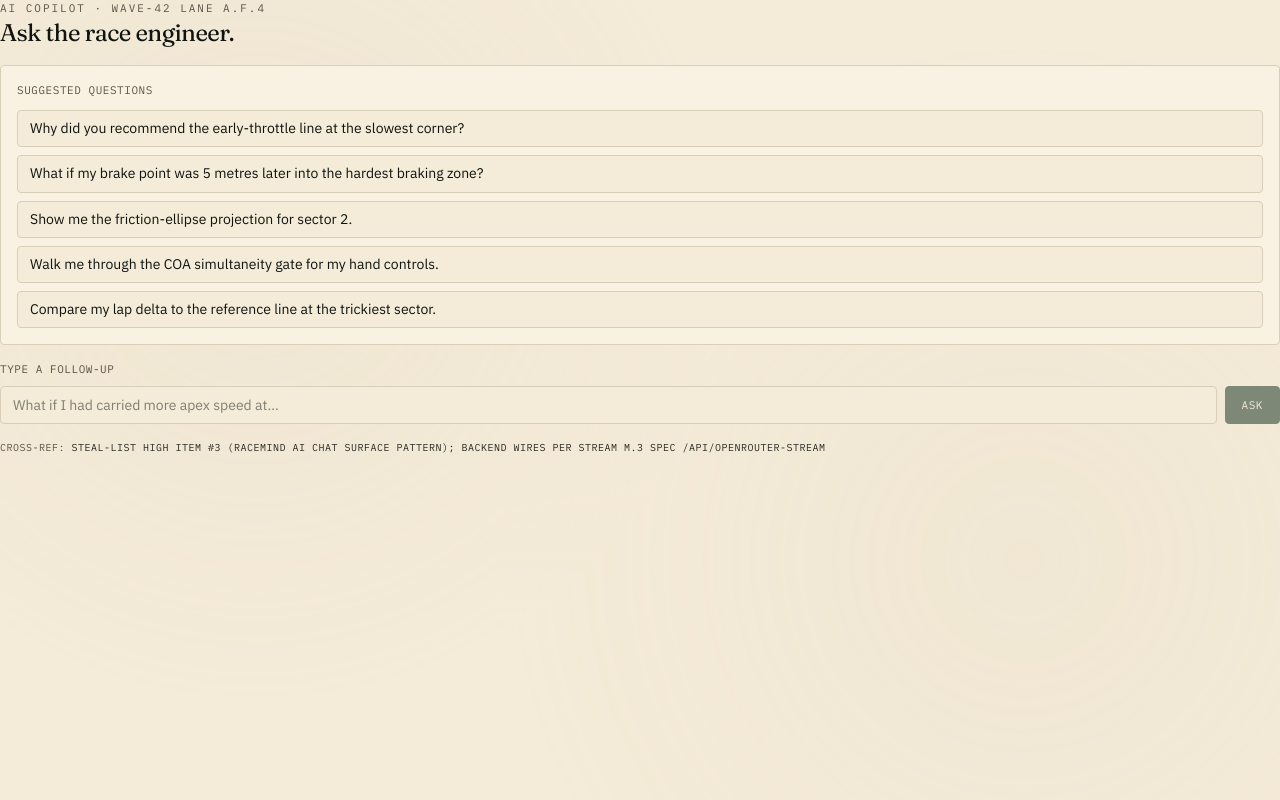
Test case: AICopilotChat › renders the ready-branch full response when streamState=ready
In the field: (608, 405) [0,386,1216,424], type "Walk me through the COA gate."
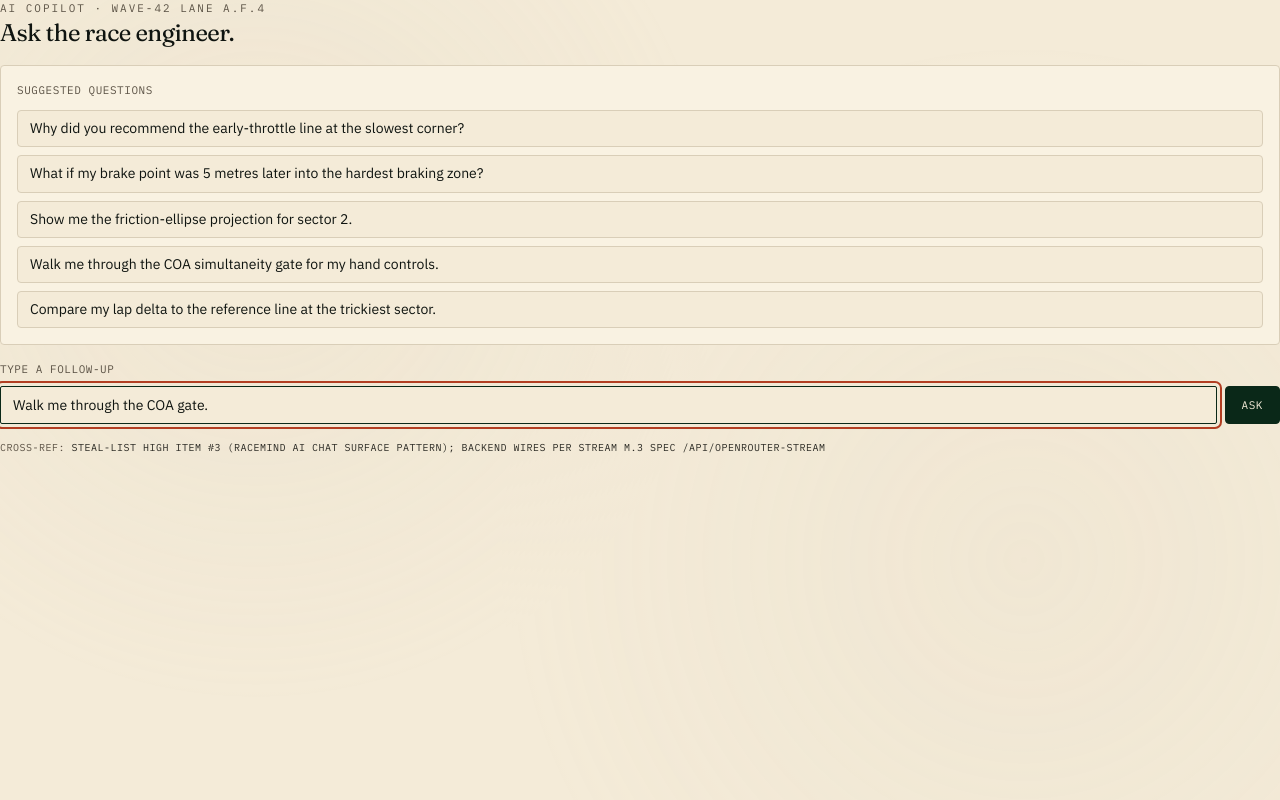
Click the button "Ask": (1252, 405) [1224,386,1279,424]
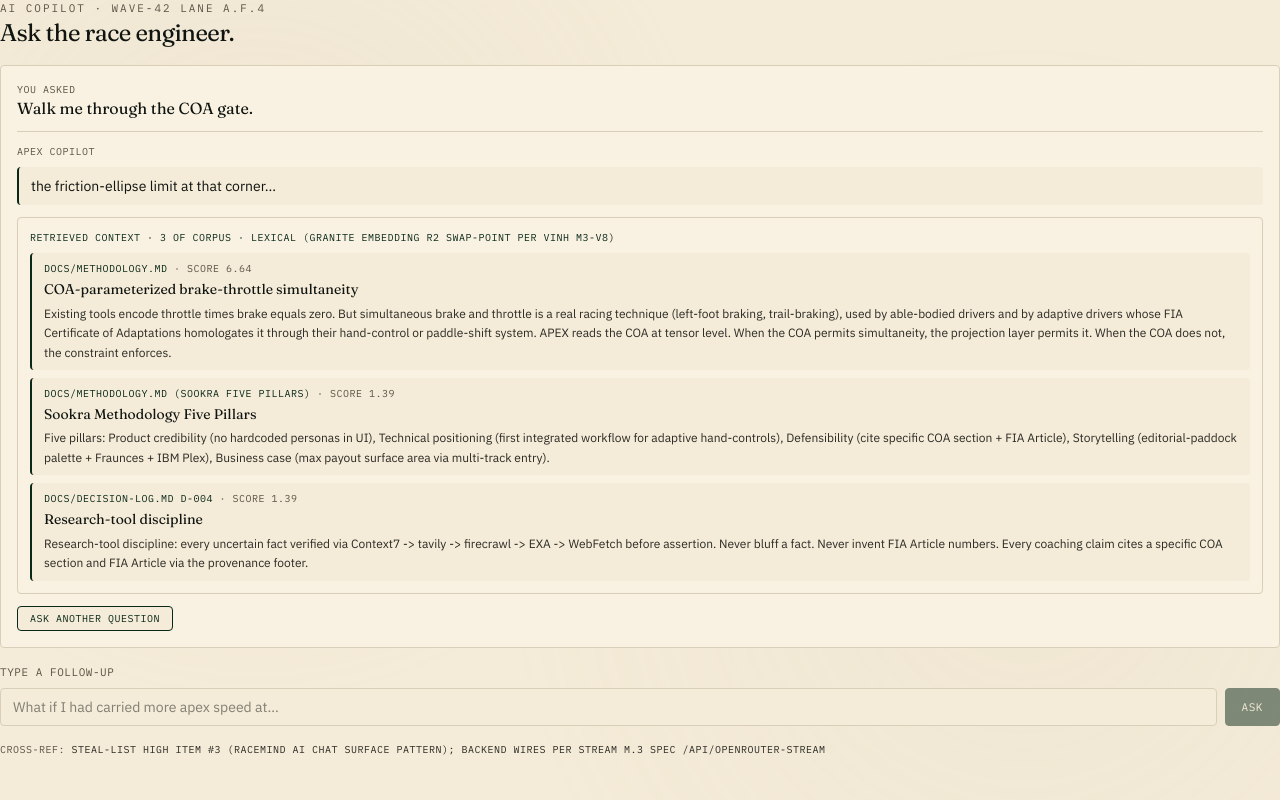
Expected: the text "the friction-ellipse limit at that corner..." is shown, [17,166,1263,205]
